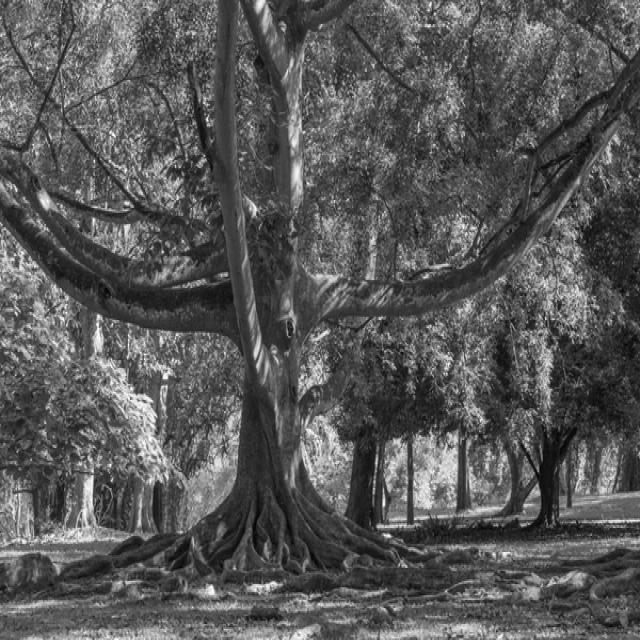Tree: (63, 0, 640, 571), (472, 105, 640, 528), (342, 323, 452, 529)
